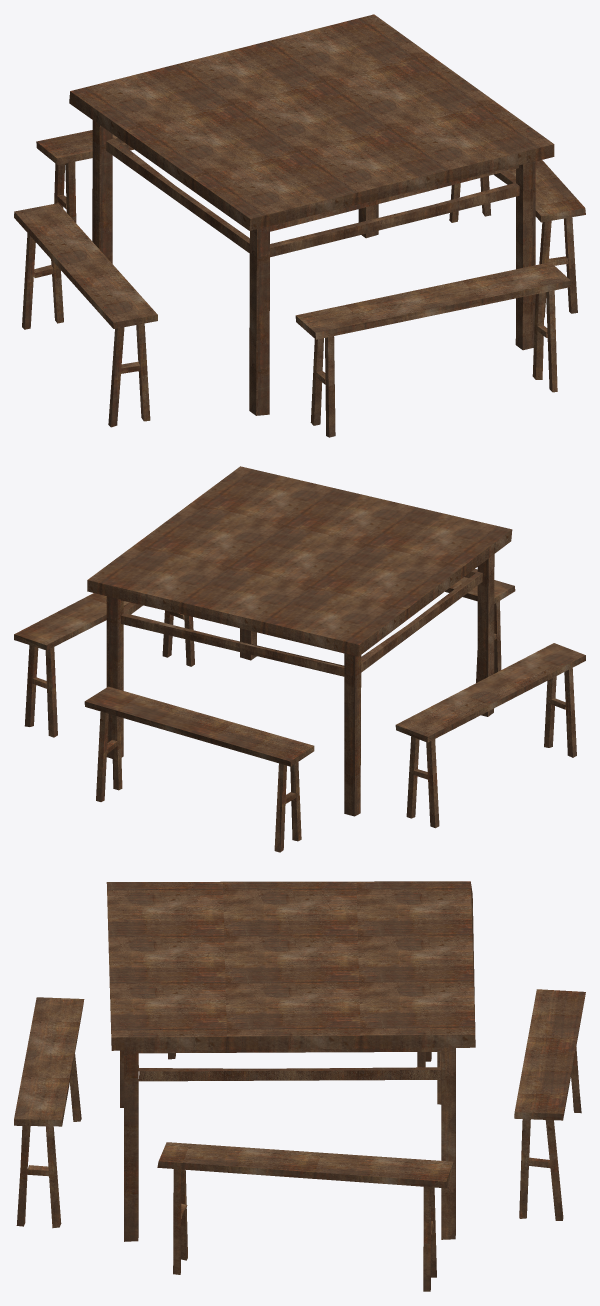
File: 摊桌椅01-无人.fbx
The picture shows the model from 3 angles, top to bottom: view 1: azimuth 30°, elevation 25°; view 2: azimuth 150°, elevation 25°; view 3: azimuth 270°, elevation 25°; orthographic projection. The views are drawn at different scales.
Visible parts, largest first — view 1: 对象005, 对象003, 对象017, 对象008, 对象033, 对象032, 对象031, 对象006, 对象, 对象034, 对象023, 对象004 (+8 smaller); view 2: 对象005, 对象, 对象017, 对象008, 对象031, 对象006, 对象033, 对象007, 对象011, 对象018, 对象004, 对象015 (+7 smaller); view 3: 对象005, 对象006, 对象, 对象003, 对象008, 对象032, 对象007, 对象034, 对象027, 对象028, 对象009, 对象014 (+2 smaller).
Boxes of the visible parts, x1,y1,x2,y2 form: 对象005: (69, 14, 554, 230); 对象003: (295, 262, 570, 339); 对象017: (14, 203, 157, 328); 对象008: (106, 134, 519, 257); 对象033: (249, 226, 269, 415); 对象032: (515, 161, 535, 350); 对象031: (92, 120, 112, 263); 对象006: (508, 160, 585, 222); 对象: (36, 130, 133, 164); 对象034: (270, 165, 518, 231); 对象023: (325, 336, 335, 437); 对象004: (108, 327, 124, 427); 对象005: (87, 466, 512, 656); 对象: (84, 686, 314, 766); 对象017: (395, 643, 585, 742); 对象008: (121, 569, 482, 676); 对象031: (344, 653, 361, 816); 对象006: (14, 593, 129, 650); 对象033: (477, 554, 494, 716); 对象007: (106, 596, 123, 758); 对象011: (45, 647, 57, 737); 对象018: (426, 739, 439, 828); 对象004: (564, 668, 576, 757); 对象015: (274, 763, 286, 852); 对象005: (106, 881, 475, 1050); 对象006: (157, 1142, 453, 1188); 对象: (514, 989, 585, 1120); 对象003: (14, 997, 84, 1126); 对象008: (138, 1052, 441, 1081); 对象032: (124, 1050, 138, 1241); 对象007: (441, 1048, 455, 1239); 对象034: (138, 1048, 441, 1053); 对象027: (46, 1126, 61, 1228); 对象028: (173, 1169, 181, 1274); 对象009: (423, 1186, 431, 1291); 对象014: (545, 1120, 563, 1220).
Bounding box in the file's own units: 24.6 × 23.2 × 9.55.
1 material, 1 textured.
